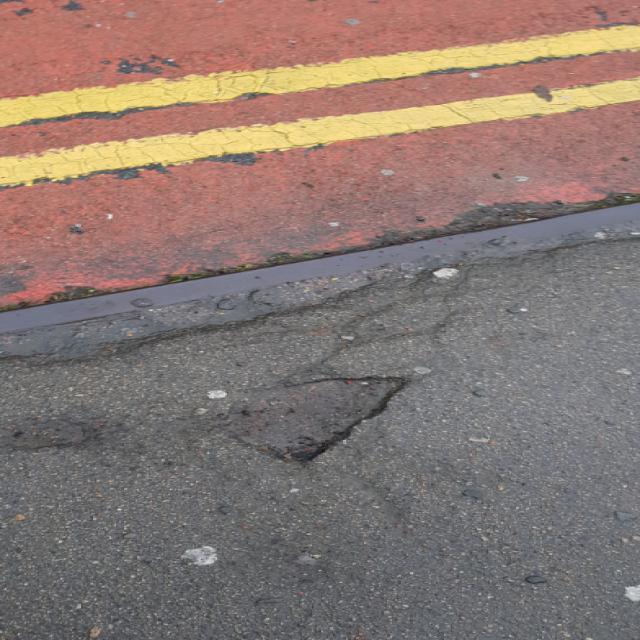pothole: (212, 372, 404, 464)
